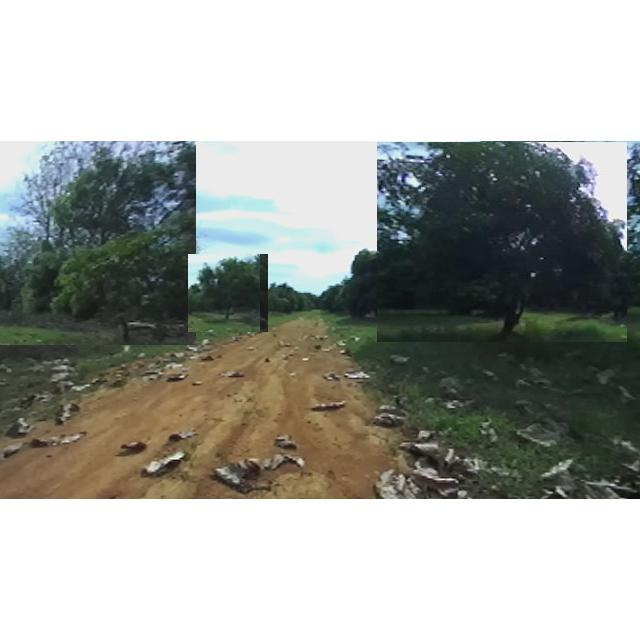direk: (377, 142, 627, 342), (0, 141, 196, 345), (338, 225, 436, 322), (188, 254, 268, 332), (312, 265, 351, 315), (260, 276, 302, 318)
